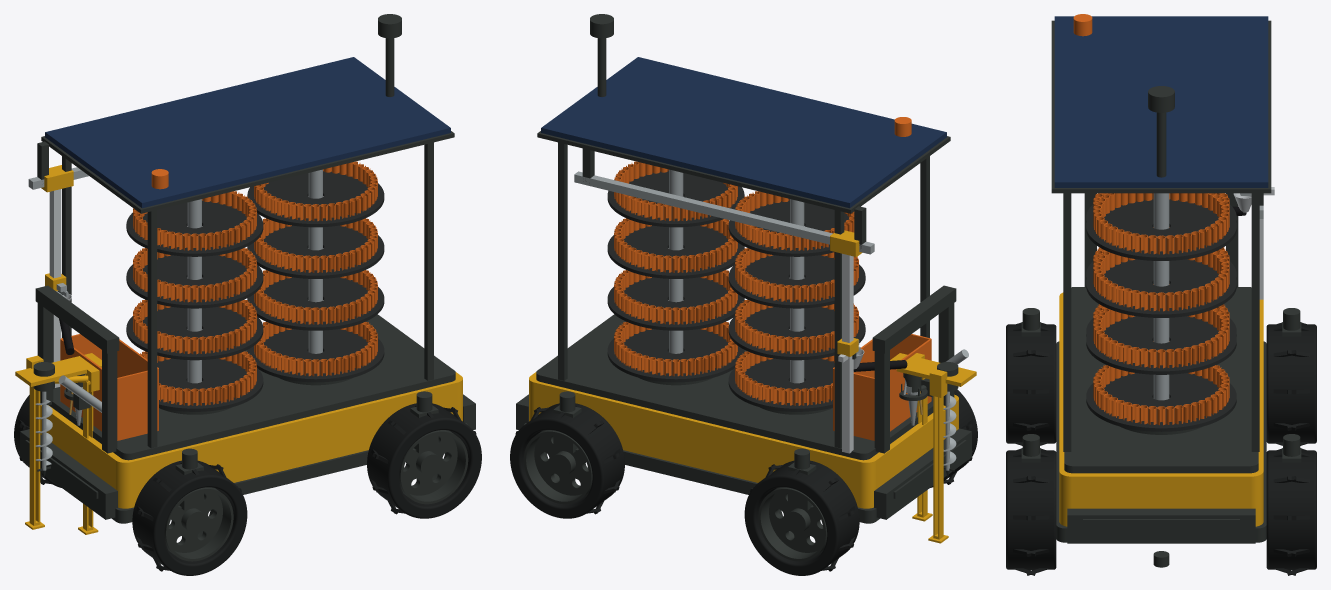
The model's file is jaal.glb.
The picture shows the model from 3 angles, left to right: view 1: azimuth 30°, elevation 25°; view 2: azimuth 150°, elevation 25°; view 3: azimuth 270°, elevation 25°; orthographic projection. The views are drawn at different scales.
Visible parts, largest first — view 1: solar_7, tiers_2 (×2), pockets_3 (×2), body_0, tyre_0 (×3), deck_2, rim_1 (×2), posts_5, gantry_11, amendment_hopper_18, shaft_1 (×2), bumpers_3 (+8 smaller); view 2: solar_7, tiers_2 (×2), pockets_3 (×2), body_0, tyre_0 (×3), deck_2, rim_1 (×2), posts_5, gantry_11, amendment_hopper_18, picker_rail_12, bumpers_3 (+10 smaller); view 3: solar_7, tyre_0 (×4), tiers_2 (×2), pockets_3 (×2), deck_2, body_0, bumpers_3, posts_5, roof_frame_6, shaft_1, skirt_1, side_lidars_4 (+5 smaller).
Part boxes in pixels (x1,y1,x2,y2): solar_7: [45, 57, 450, 208]; tiers_2 (×2): [126, 169, 384, 411]; pockets_3 (×2): [133, 161, 377, 405]; body_0: [40, 372, 462, 508]; tyre_0 (×3): [14, 395, 481, 575]; deck_2: [49, 314, 455, 460]; rim_1 (×2): [164, 430, 468, 561]; posts_5: [62, 142, 433, 448]; gantry_11: [35, 285, 119, 453]; amendment_hopper_18: [60, 334, 158, 440]; shaft_1 (×2): [187, 169, 322, 383]; bumpers_3: [20, 394, 475, 519]; solar_7: [541, 57, 946, 208]; tiers_2 (×2): [607, 169, 865, 411]; pockets_3 (×2): [614, 161, 858, 405]; body_0: [529, 372, 958, 508]; tyre_0 (×3): [510, 389, 977, 575]; deck_2: [536, 314, 933, 460]; rim_1 (×2): [523, 430, 827, 561]; posts_5: [558, 142, 929, 448]; gantry_11: [872, 285, 956, 453]; amendment_hopper_18: [833, 334, 931, 440]; picker_rail_12: [574, 171, 874, 254]; bumpers_3: [516, 394, 971, 519]; solar_7: [1054, 16, 1268, 187]; tyre_0 (×4): [1006, 322, 1316, 575]; tiers_2 (×2): [1086, 193, 1236, 431]; pockets_3 (×2): [1093, 193, 1229, 425]; deck_2: [1064, 287, 1258, 473]; body_0: [1059, 292, 1263, 526]; bumpers_3: [1067, 508, 1255, 543]; posts_5: [1063, 193, 1259, 451]; roof_frame_6: [1051, 20, 1271, 193]; shaft_1: [1153, 193, 1169, 400]; skirt_1: [1056, 341, 1266, 542]; side_lidars_4: [1083, 519, 1239, 526].
Size of the model in its own units: 3390 by 3460 by 1980.
